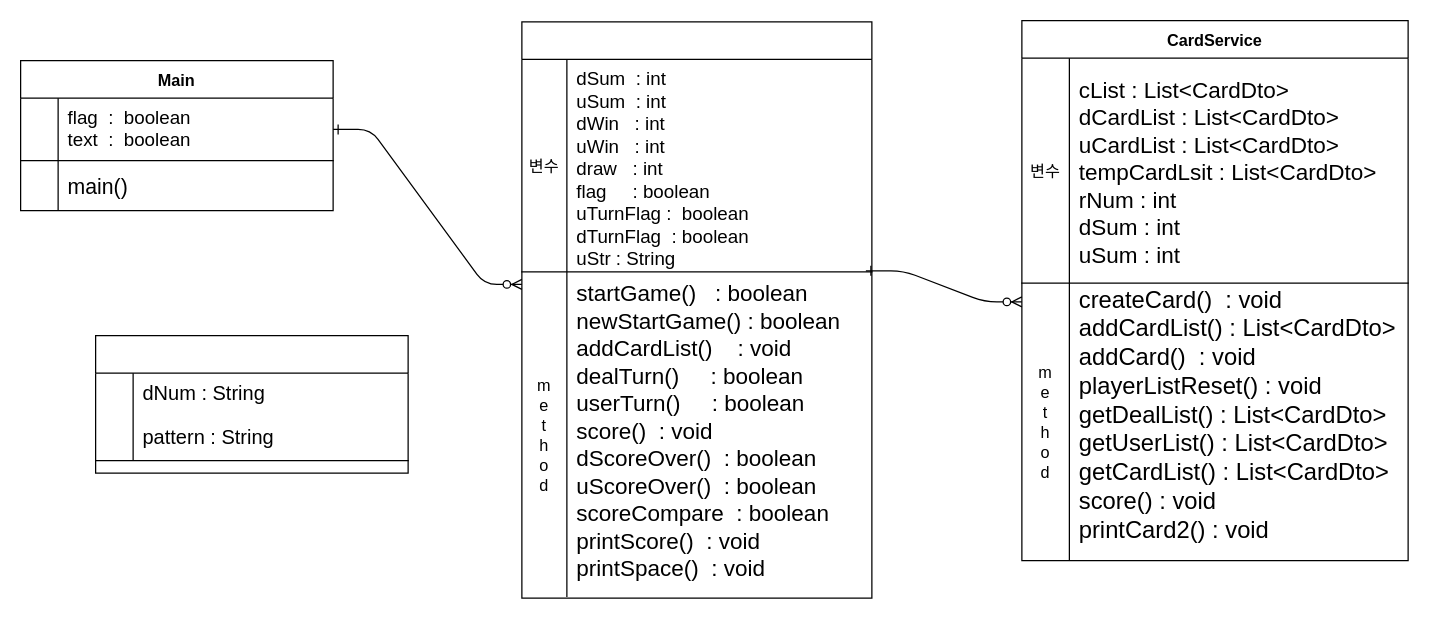
Image size: 1429x619. Some labels were removed from this diagram. The shapes that lost their labels are listed below. From the top down, each one's box as (x1, y1, x2, y2) in pixels, then its label:
(521, 21, 872, 598): RuleService
(94, 334, 408, 473): CardDto
